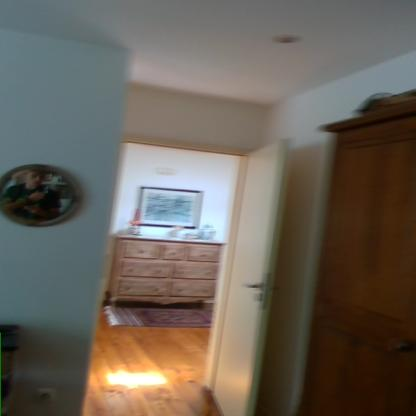open: (92, 122, 295, 414)
